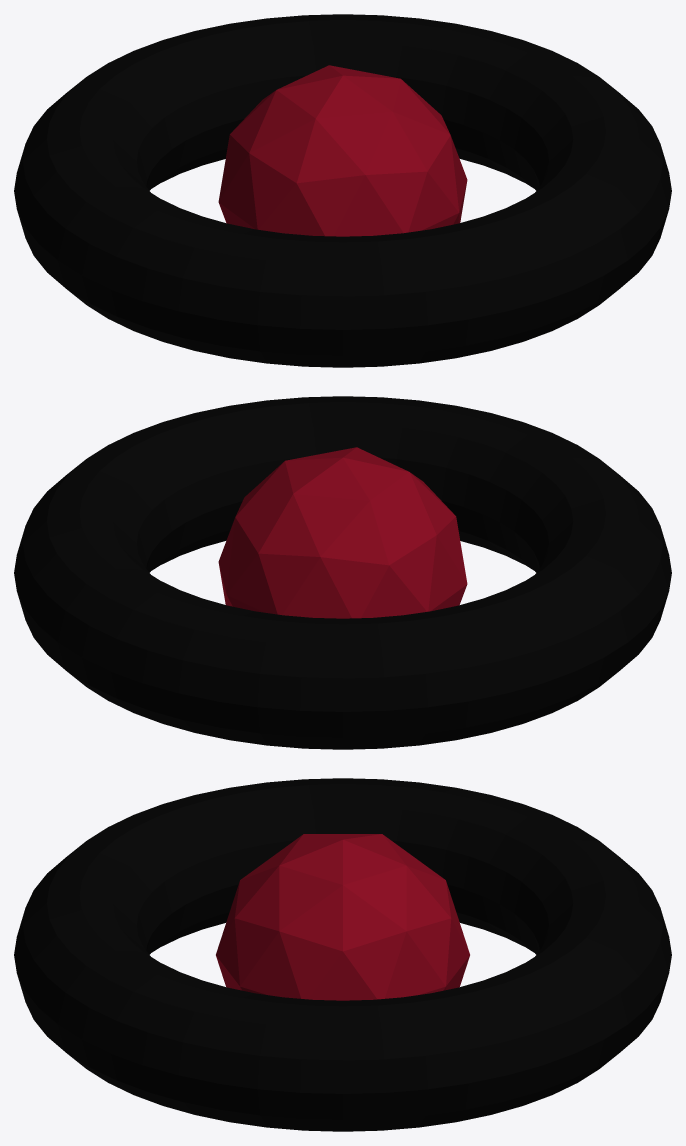
File: HeartOfTheBeast.fbx
3 views of the same model, one above another, from view 1: azimuth 30°, elevation 25°; view 2: azimuth 150°, elevation 25°; view 3: azimuth 270°, elevation 25° (orthographic).
Parts seen in each view (by area): view 1: Torus; view 2: Torus; view 3: Torus.
Boxes of the visible parts, x1=… form: Torus: x1=14, y1=14, x2=671, y2=367; Torus: x1=14, y1=396, x2=671, y2=749; Torus: x1=14, y1=778, x2=671, y2=1131.
Bounding box in the file's own units: 517 × 200 × 517.
